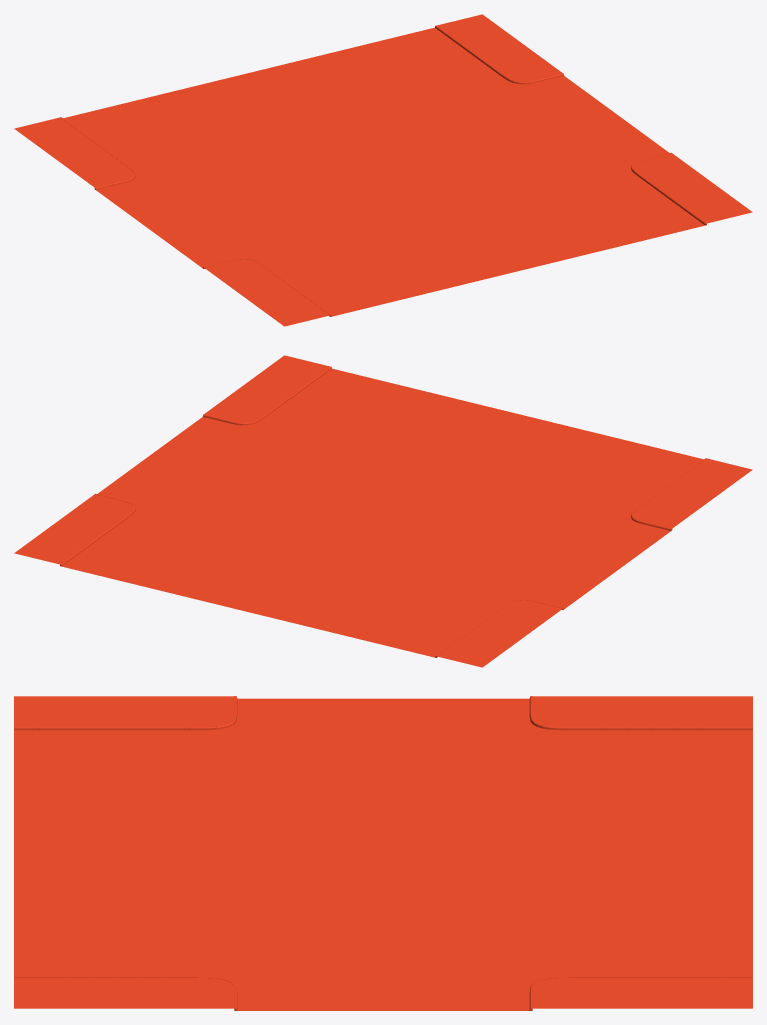
The model's file is SM_FreewayToMainroad_Cross_30x30_City.fbx.
3 renders of one model, top to bottom at view 1: azimuth 30°, elevation 25°; view 2: azimuth 150°, elevation 25°; view 3: azimuth 270°, elevation 25°, orthographic. The views are drawn at different scales.
Parts seen in each view (by area): view 1: SM_FreewayToMainroad_Cross_30x30_City; view 2: SM_FreewayToMainroad_Cross_30x30_City; view 3: SM_FreewayToMainroad_Cross_30x30_City.
Part boxes in pixels (<box>): SM_FreewayToMainroad_Cross_30x30_City: <box>14,14,752,326</box>; SM_FreewayToMainroad_Cross_30x30_City: <box>14,355,752,667</box>; SM_FreewayToMainroad_Cross_30x30_City: <box>14,696,752,1010</box>.
Size of the model in its own units: 30 by 0.1084 by 30.
